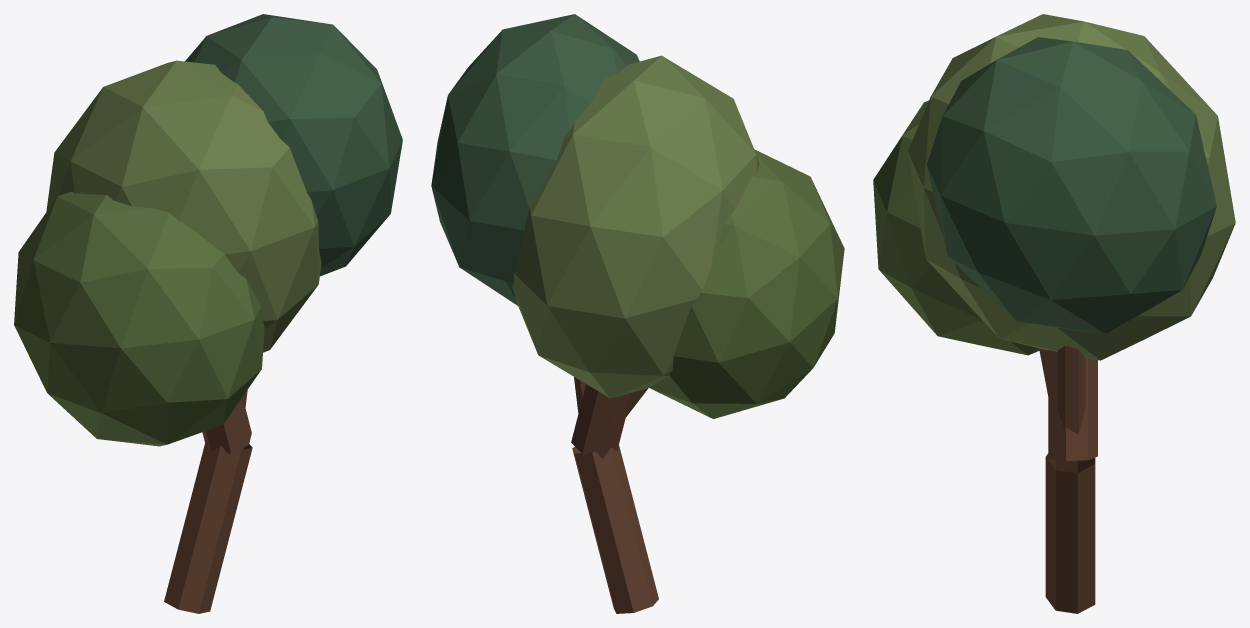
3 views of the same model, side by side, from view 1: azimuth 30°, elevation 25°; view 2: azimuth 150°, elevation 25°; view 3: azimuth 270°, elevation 25° (orthographic). The views are drawn at different scales.
Parts seen in each view (by area): view 1: T24_海岸斜生树; view 2: T24_海岸斜生树; view 3: T24_海岸斜生树.
Part boxes in pixels (x1=…): T24_海岸斜生树: x1=14, y1=14, x2=402, y2=613; T24_海岸斜生树: x1=431, y1=14, x2=844, y2=613; T24_海岸斜生树: x1=873, y1=14, x2=1235, y2=613.
Bounding box in the file's own units: 1.54 × 2.32 × 1.25.
